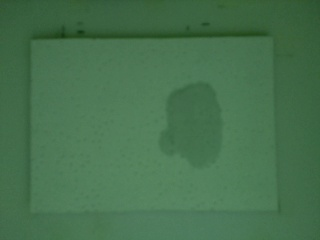Water_detected: (171, 95, 221, 164)
